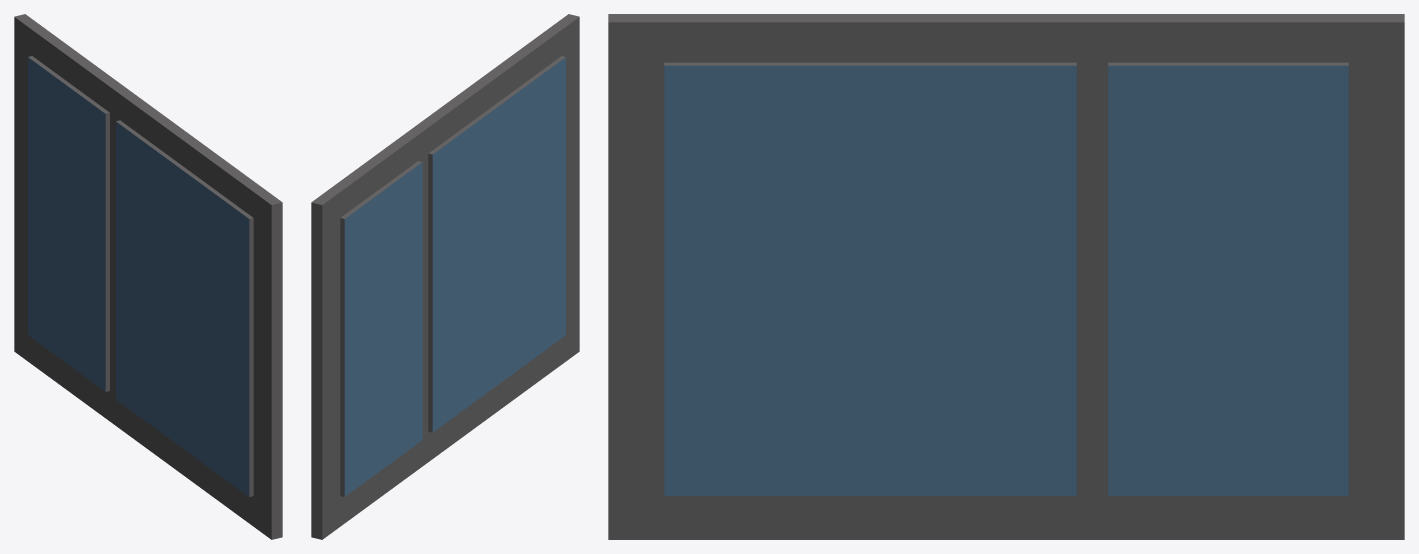
File: window.fbx
3 views of the same model, side by side, from view 1: azimuth 30°, elevation 25°; view 2: azimuth 150°, elevation 25°; view 3: azimuth 270°, elevation 25° (orthographic). The views are drawn at different scales.
Parts seen in each view (by area): view 1: polySurface3353; view 2: polySurface3353; view 3: polySurface3353.
Boxes of the visible parts, box(x1,y1,x2,y2) form: polySurface3353: box(14, 14, 282, 539); polySurface3353: box(311, 14, 579, 539); polySurface3353: box(608, 14, 1404, 539).
Size of the model in its own units: 9.67 by 155 by 217.
Materials: 1 (1 with a texture image).
